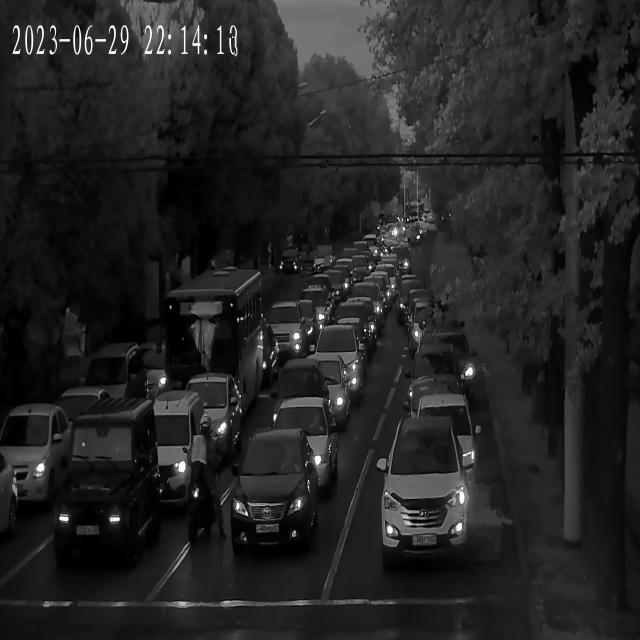Bus: (45, 412, 161, 566), (163, 272, 263, 410)
Car: (379, 413, 475, 568), (220, 429, 316, 554), (102, 408, 221, 508), (164, 373, 243, 468), (0, 403, 76, 501), (397, 397, 477, 485), (250, 412, 326, 500), (272, 354, 349, 425), (80, 342, 148, 422), (305, 326, 365, 401), (412, 333, 477, 391), (401, 370, 469, 424), (261, 300, 317, 355), (408, 302, 449, 359), (336, 303, 374, 357), (352, 280, 386, 334), (399, 272, 431, 325), (0, 450, 16, 546), (294, 290, 332, 328), (366, 270, 394, 314), (328, 260, 356, 301), (374, 260, 395, 302), (382, 252, 400, 282), (351, 242, 370, 269), (278, 255, 300, 278), (363, 235, 379, 262), (316, 248, 330, 276)
